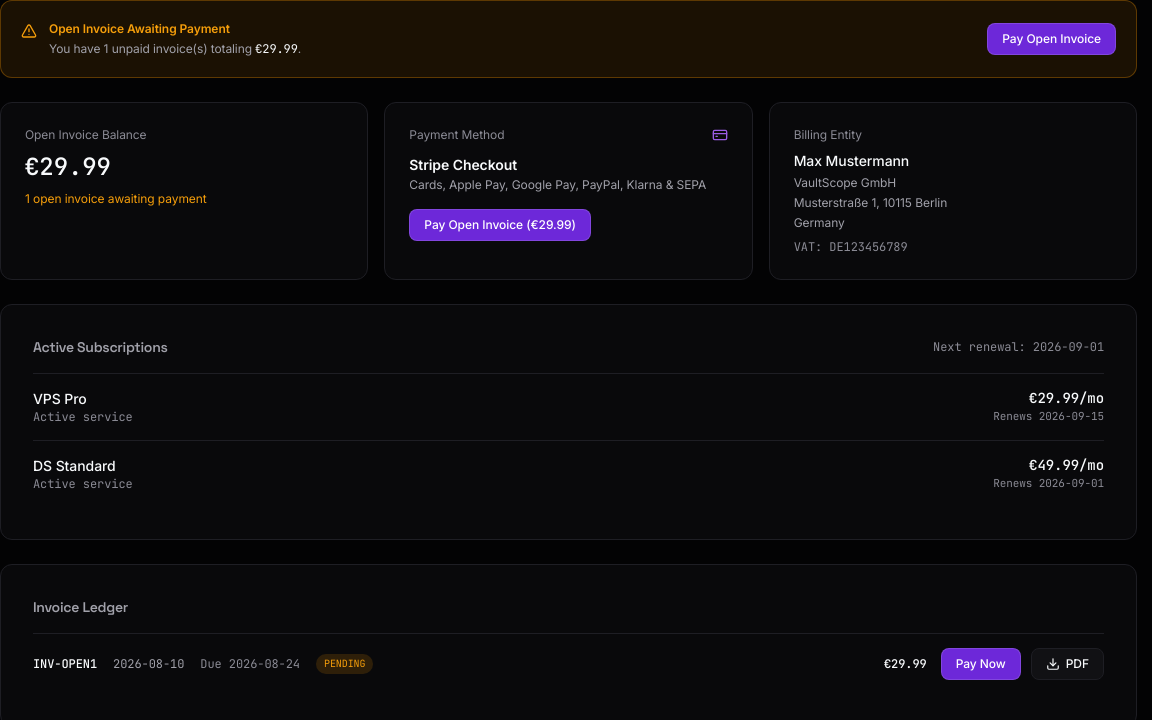
Test case: ProfileBilling › requests Stripe config and payment intent when clicking Pay Now
Click the button "Pay Now".
click(981, 664)  # box [941,648,1021,680]
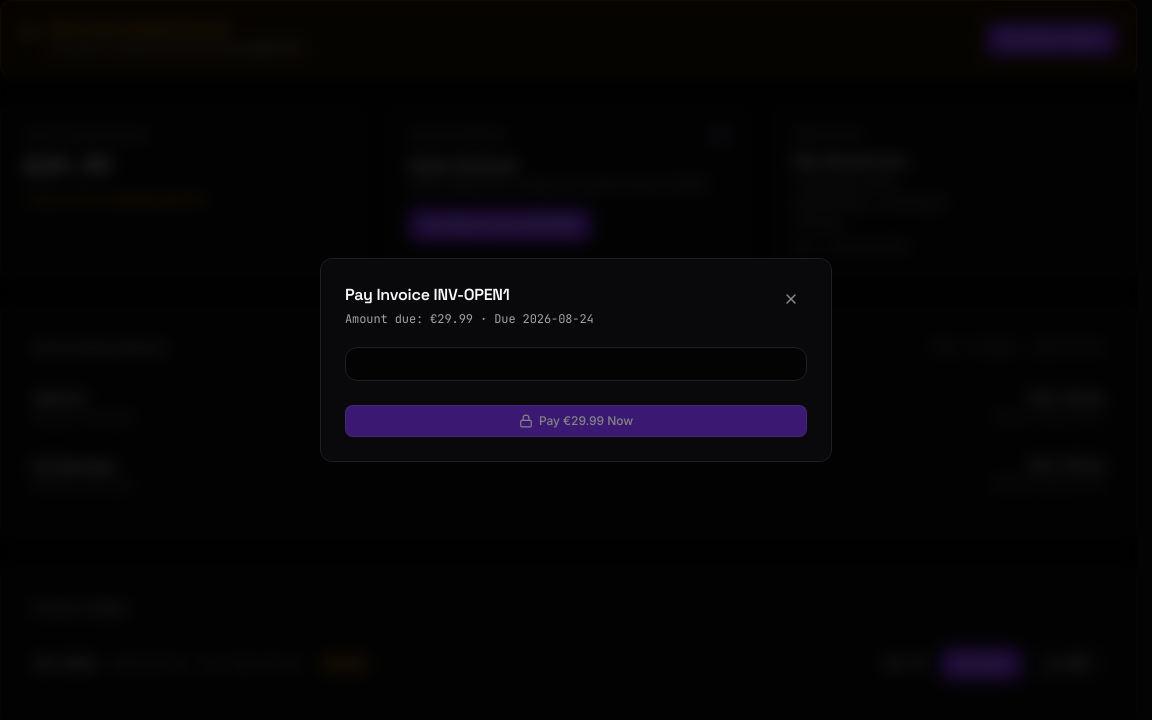
Check: the heading "Pay Invoice INV-OPEN1" is shown, box [345,284,510,305]
